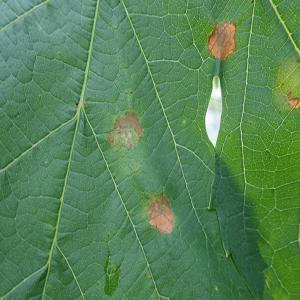Folha: (0, 0, 299, 299)
Fungo: (108, 110, 144, 152), (145, 191, 175, 235), (207, 20, 237, 61), (286, 90, 300, 110)
